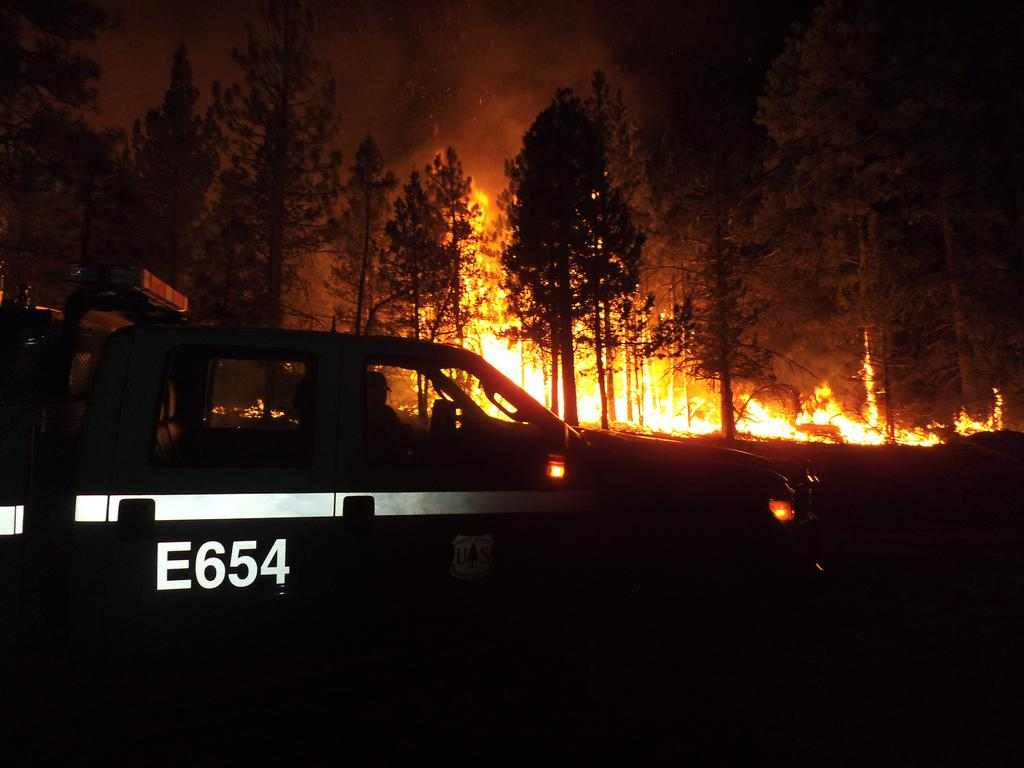fire: (752, 398, 882, 442), (584, 386, 694, 432), (482, 336, 548, 394)
